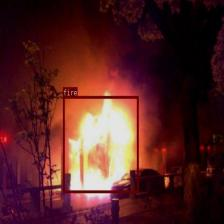fire: (63, 96, 138, 192)
